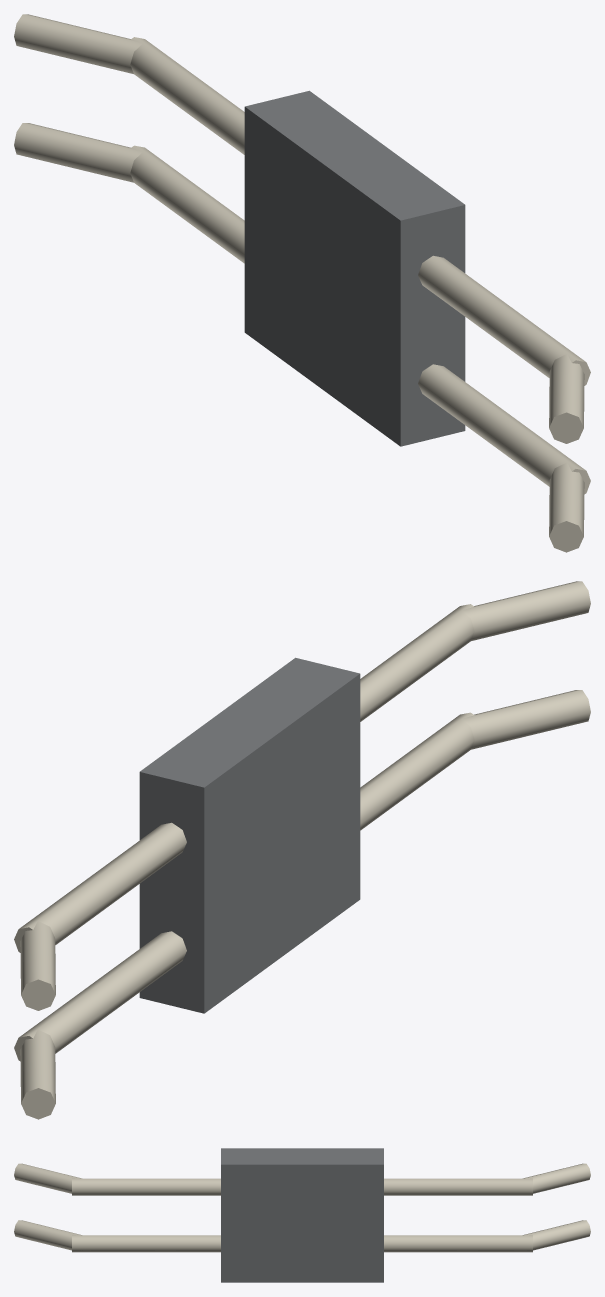
Rendered from er1_inverter.obj.
3 renders of one model, top to bottom at view 1: azimuth 30°, elevation 25°; view 2: azimuth 150°, elevation 25°; view 3: azimuth 270°, elevation 25°, orthographic. The views are drawn at different scales.
Visible parts, largest first — view 1: er1_inverter; view 2: er1_inverter; view 3: er1_inverter.
Boxes of the visible parts, x1,y1,x2,y2 form: er1_inverter: [14, 14, 590, 552]; er1_inverter: [14, 581, 590, 1119]; er1_inverter: [14, 1148, 590, 1282].
Size of the model in its own units: 0.2295 by 0.468 by 2.07.
